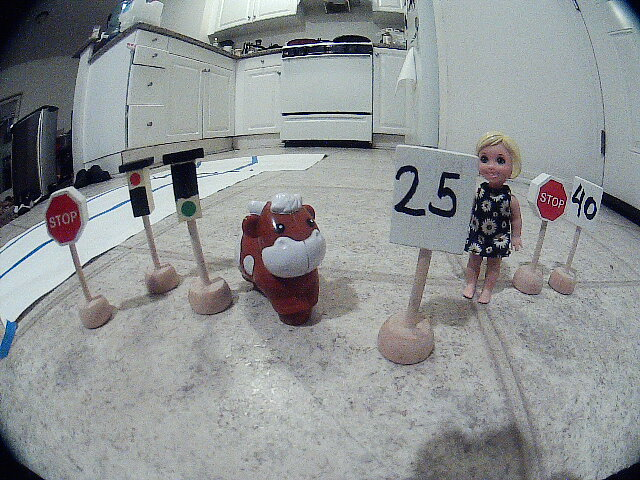Cow: (231, 195, 344, 334)
Green Traffic Light: (153, 151, 227, 233)
Person: (459, 122, 531, 327)
Red Traffic Light: (114, 156, 164, 234)
Speed Limit 25: (382, 135, 484, 261)
Speed Limit 40: (567, 166, 601, 239)
Stop Sign: (23, 181, 101, 258), (527, 167, 572, 231)
